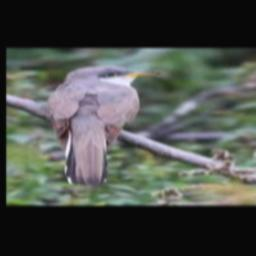Cuckoo: (46, 65, 161, 186)
